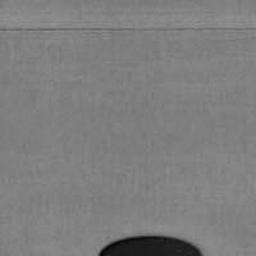Punching: (97, 234, 204, 256)
